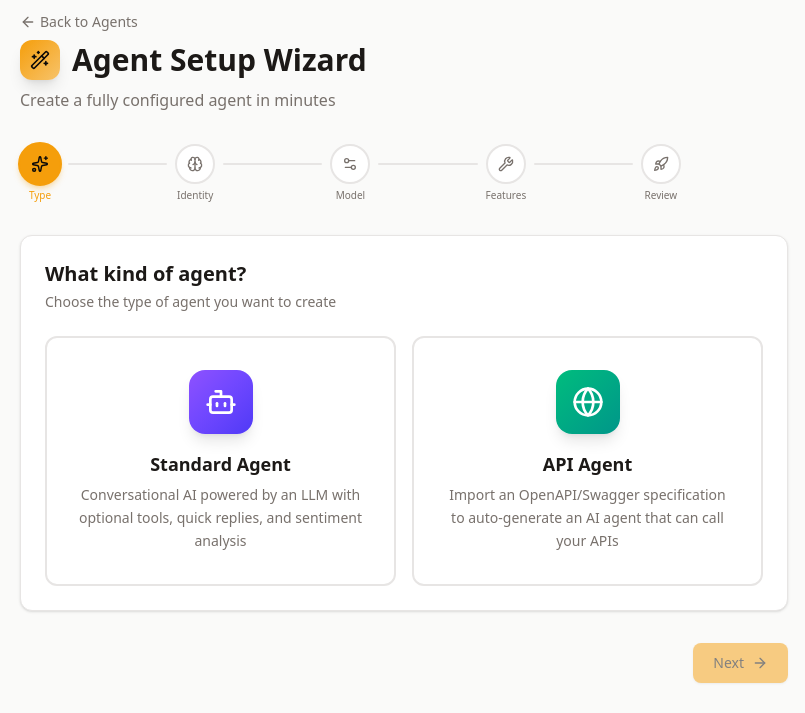
Test: AgentWizardPage › step 2 next is disabled without name and prompt
This screenshot has width=805, height=713.
Click the button with test id "type-standard" at point(220, 461), box [45,336,396,586]
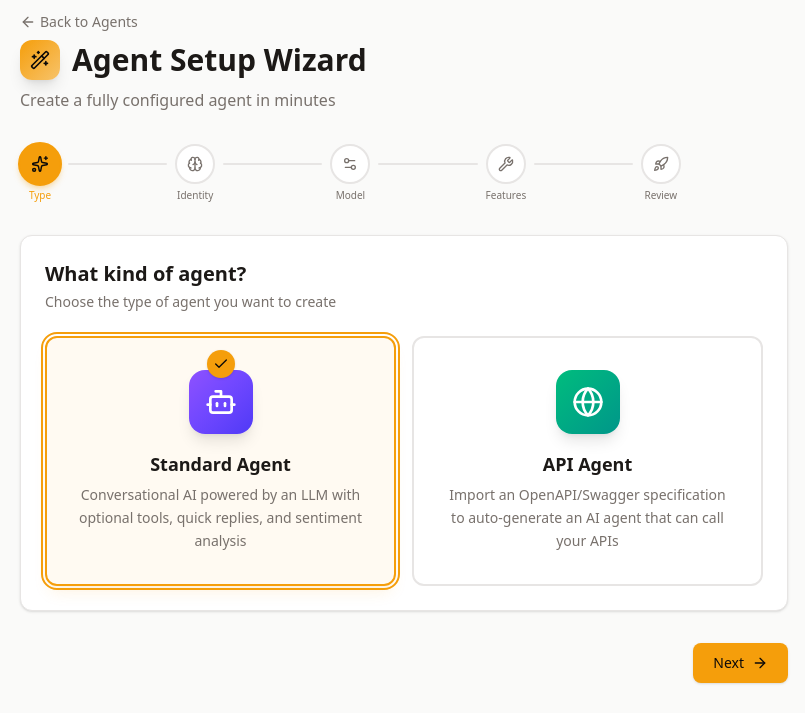
Click the button with test id "wizard-next" at point(741, 663), box [693,643,788,683]
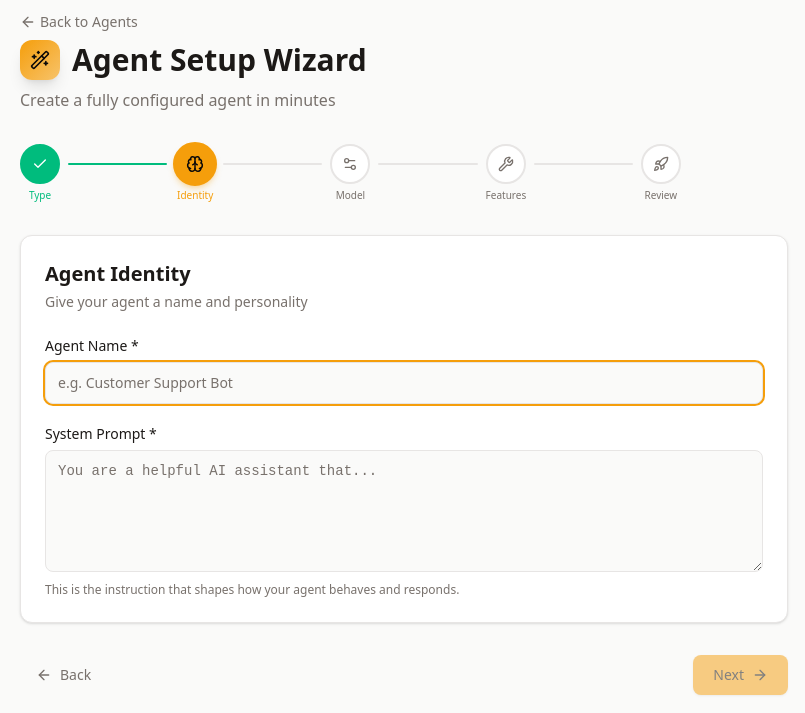
Result: the button with test id "wizard-next" is disabled at [693,655,788,695]
Type "Test Agent" into the field with test id "wizard-agent-name" at point(404, 383), box [45,362,763,404]
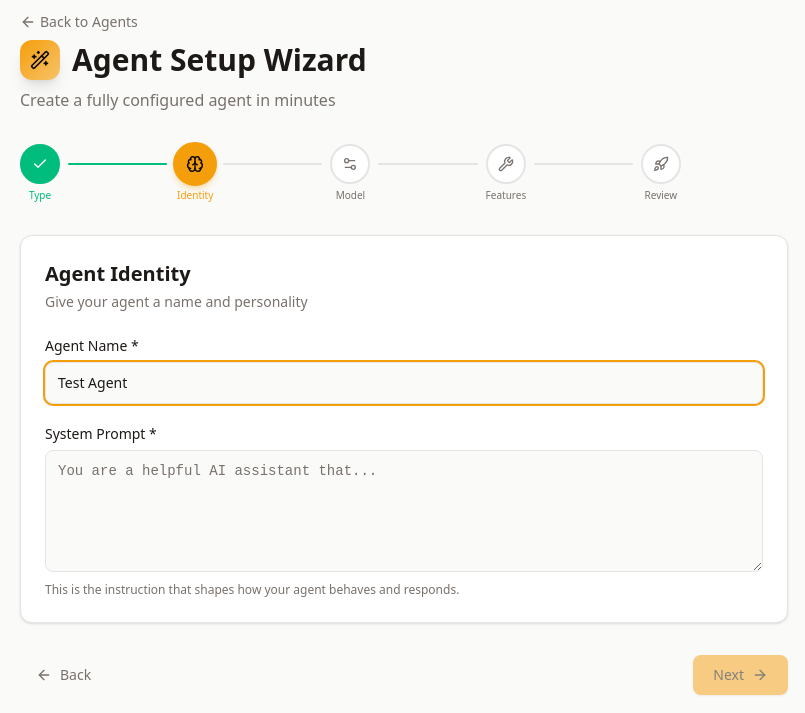
Result: the button with test id "wizard-next" is disabled at [693,655,788,695]
Type "You are helpful" into the text box with test id "wizard-system-prompt" at point(404, 511), box [45,450,763,572]
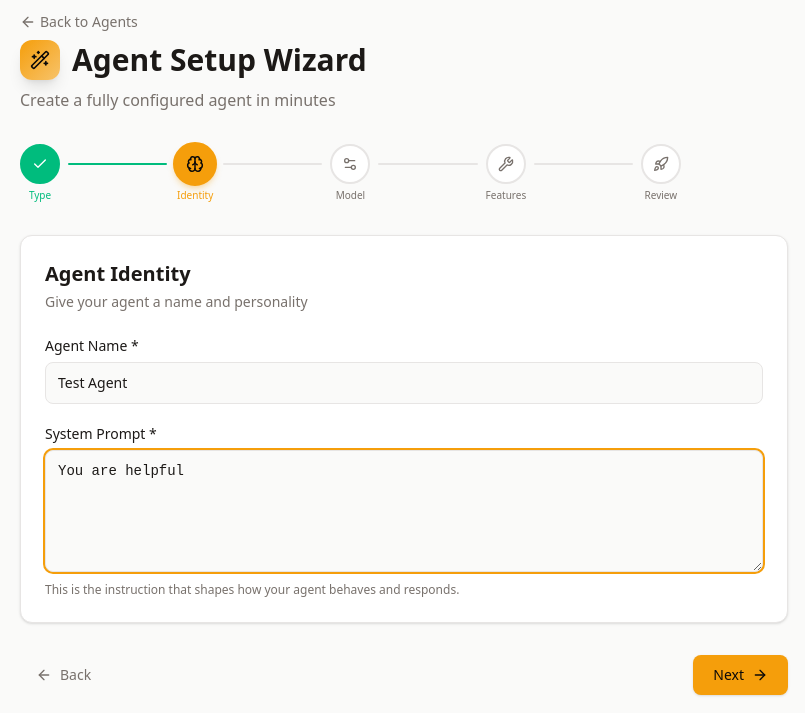
Result: the button with test id "wizard-next" is enabled at [693,655,788,695]
